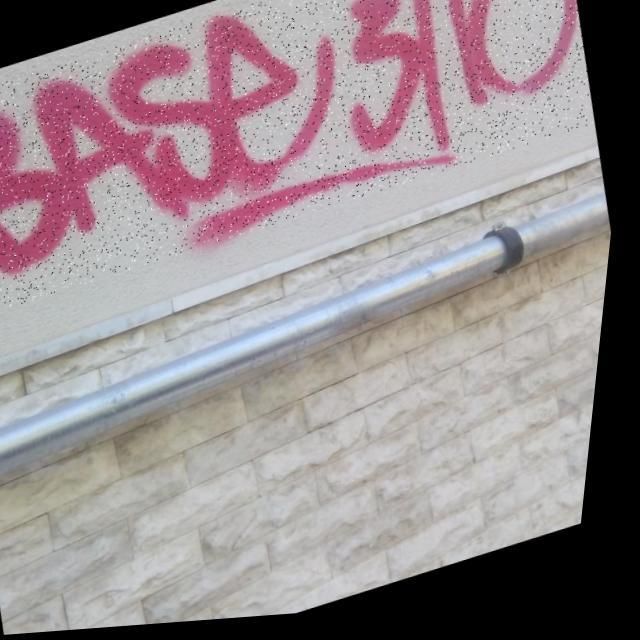-: (0, 0, 612, 322)
